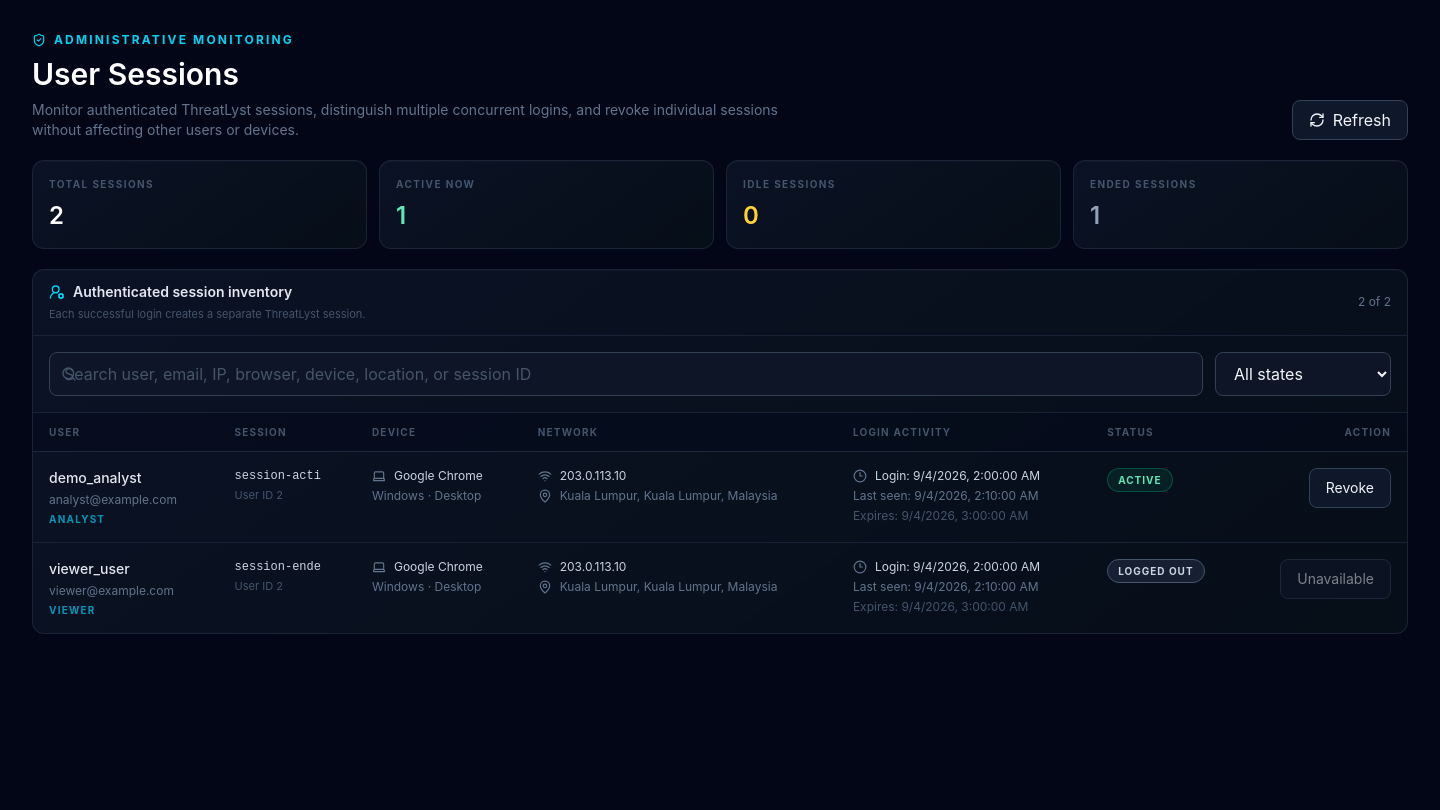
Scenario: UserSessionsPage › filters sessions by status
The width and height of the screenshot is (1440, 810).
Expected: the text "demo_analyst" is shown, [49,469,142,486]
Select "Logged out" in the dropdown named "Filter session status": (1303, 374) [1215,352,1391,396]
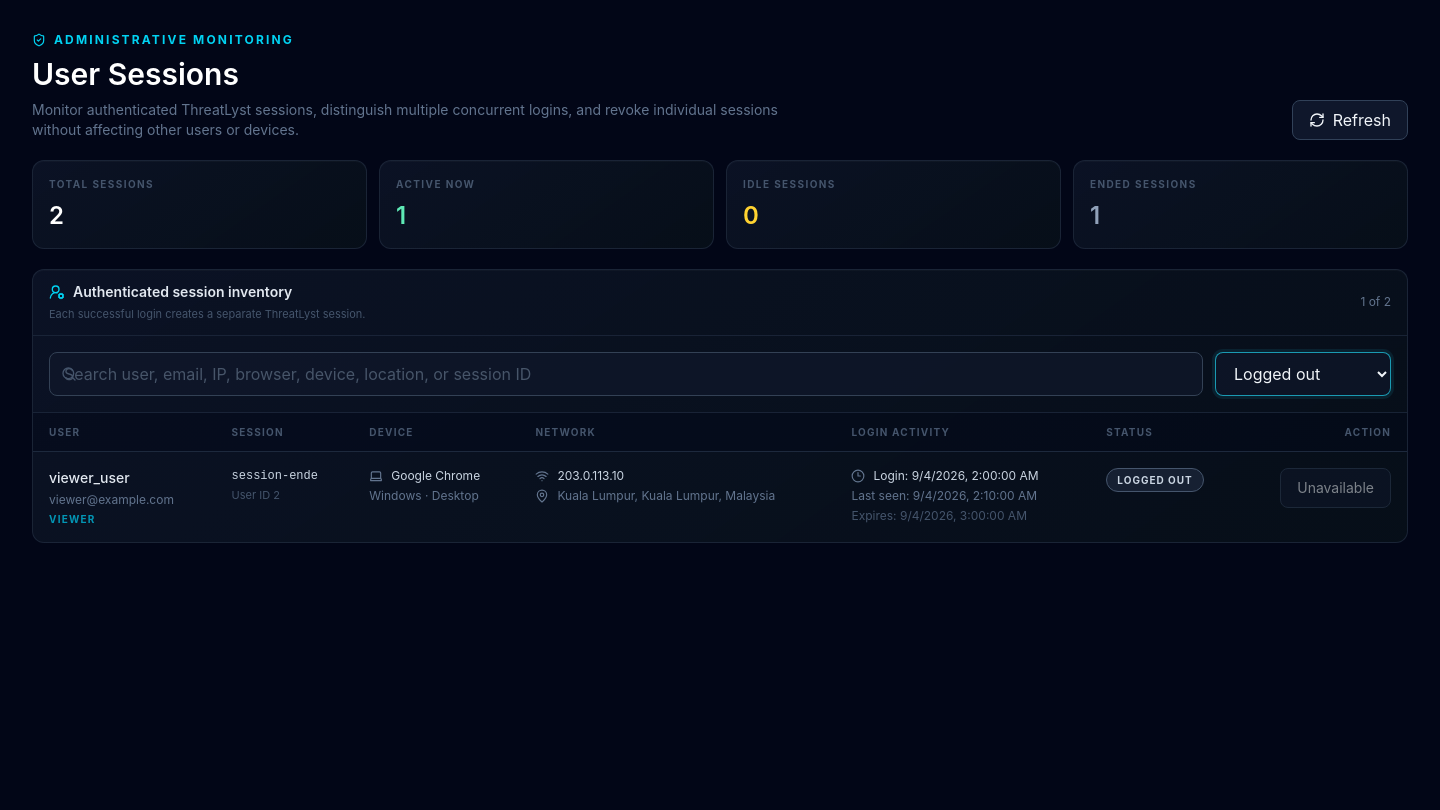
Expected: the text "viewer_user" is shown, [49,469,130,486]
Expected: the text "demo_analyst" is gone
